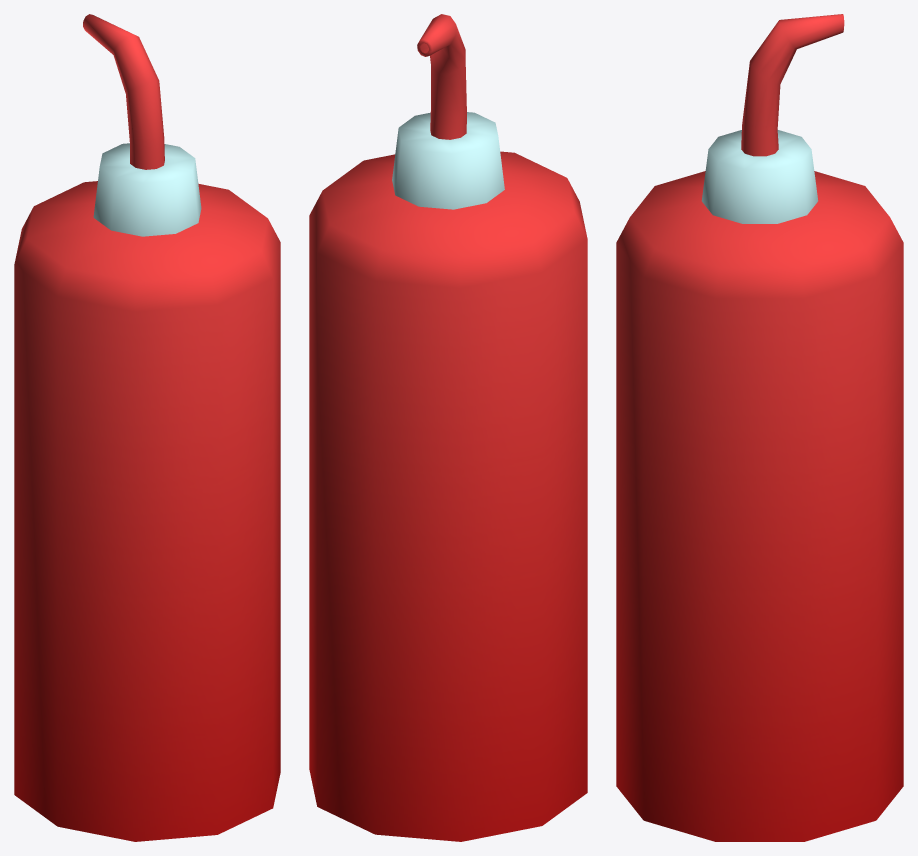
Rendered from pumpbottle_red.fbx.
3 renders of one model, left to right at view 1: azimuth 30°, elevation 25°; view 2: azimuth 150°, elevation 25°; view 3: azimuth 270°, elevation 25°, orthographic. The views are drawn at different scales.
Parts seen in each view (by area): view 1: pumpbottle_red; view 2: pumpbottle_red; view 3: pumpbottle_red.
Part boxes in pixels (bbox=[...]): pumpbottle_red: bbox=[14, 14, 280, 841]; pumpbottle_red: bbox=[309, 14, 587, 841]; pumpbottle_red: bbox=[616, 14, 903, 841].
Size of the model in its own units: 105 by 335 by 114.
